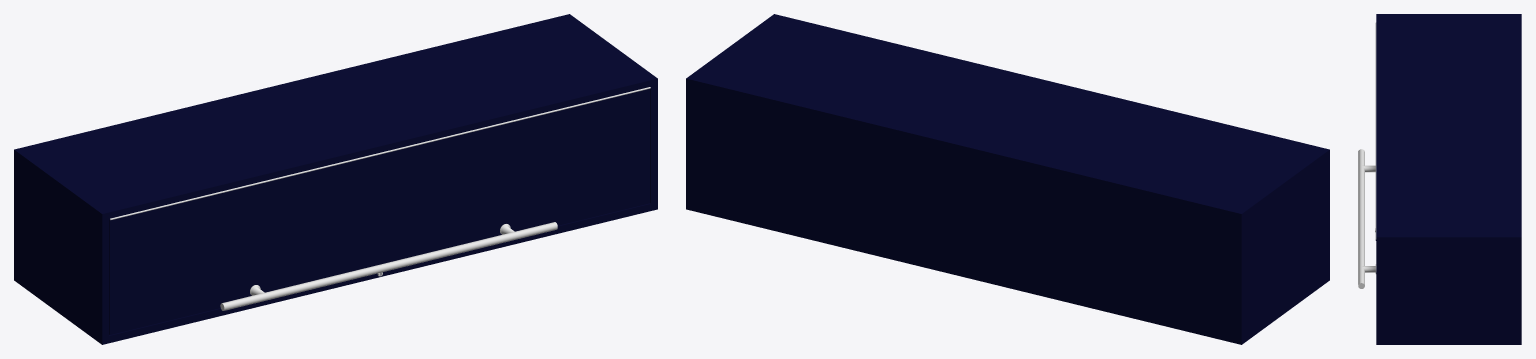
File: overHeads80Lux.glb
3 views of the same model, side by side, from view 1: azimuth 30°, elevation 25°; view 2: azimuth 150°, elevation 25°; view 3: azimuth 270°, elevation 25° (orthographic). The views are drawn at different scales.
Visible parts, largest first — view 1: upperShell, doors, handles, hinge; view 2: upperShell; view 3: upperShell, handles, hinge.
Boxes of the visible parts, bbox=[...] form: upperShell: bbox=[14, 14, 657, 344]; doors: bbox=[109, 89, 650, 334]; handles: bbox=[220, 222, 557, 310]; hinge: bbox=[110, 87, 650, 220]; upperShell: bbox=[686, 14, 1329, 344]; upperShell: bbox=[1376, 14, 1521, 344]; handles: bbox=[1358, 149, 1376, 288]; hinge: bbox=[1375, 22, 1376, 239].
Bounding box in the file's own units: 2.03 × 0.4572 × 0.6287.
